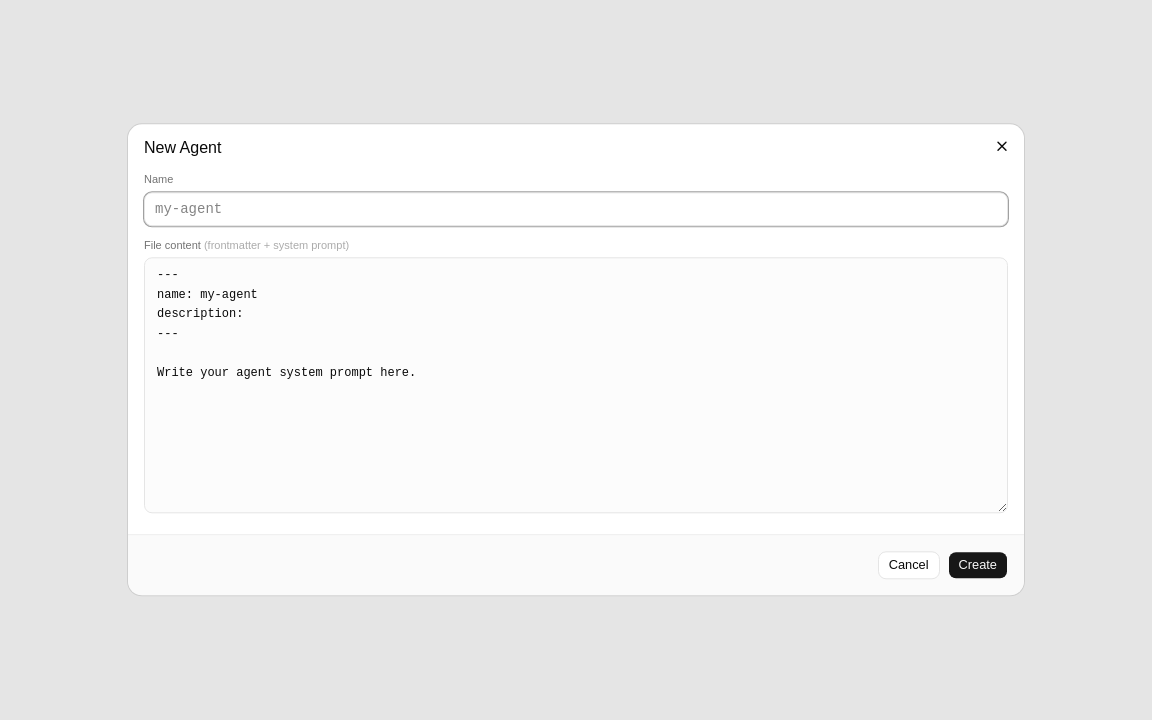
AgentEditorModal — new agent › shows error when name contains a space
The width and height of the screenshot is (1152, 720).
Step 1. Type "bad name" into the field with placeholder "my-agent" → (576, 209), box [144,192,1008,226]
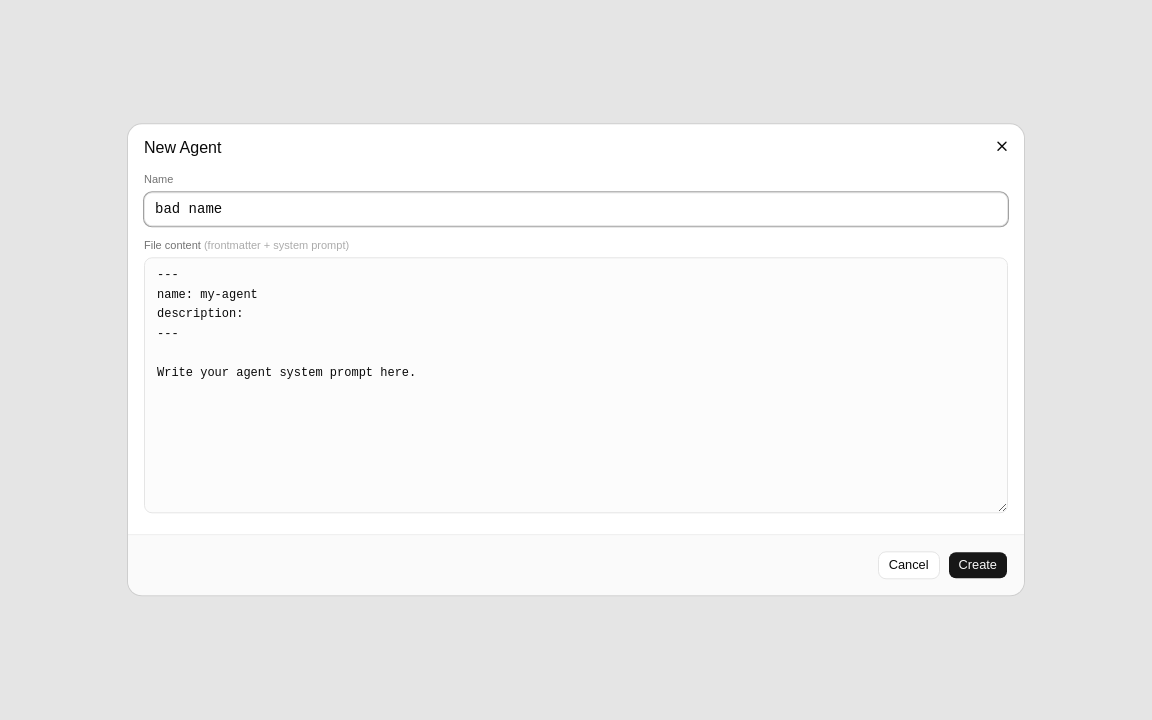
Step 2. Click the button "Create" → (978, 566), box [948,552,1008,580]
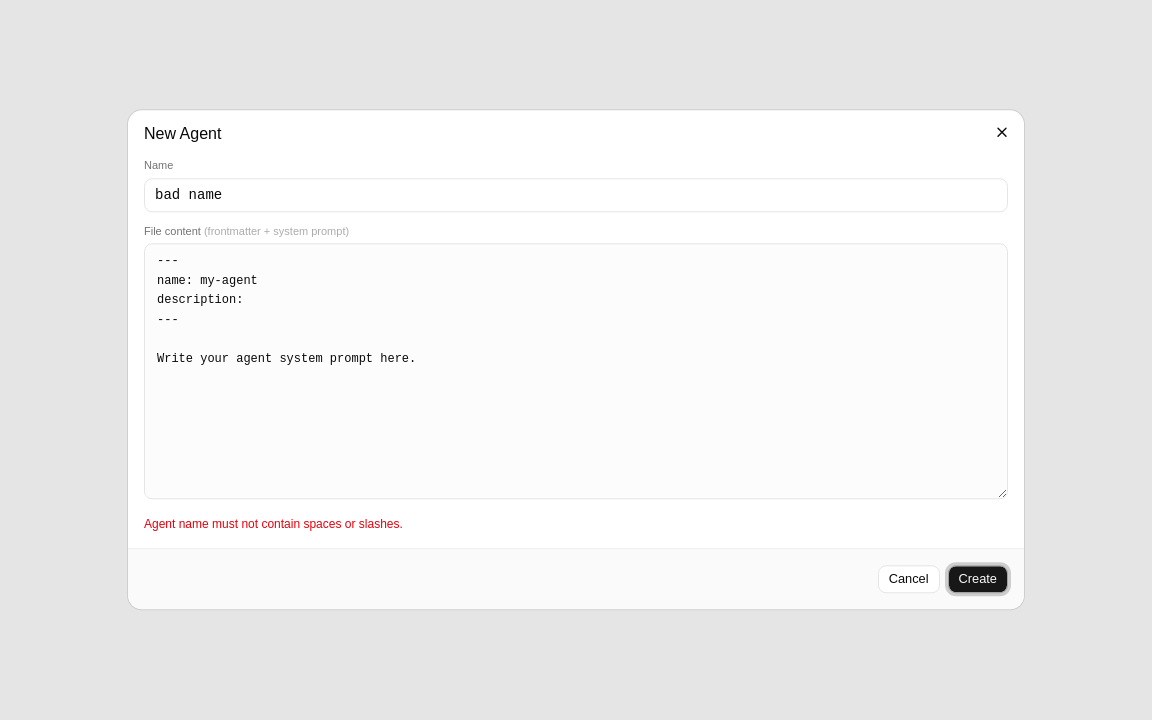
Now the text "Agent name must not contain spaces or slashes." is shown, box [144,518,403,532]
